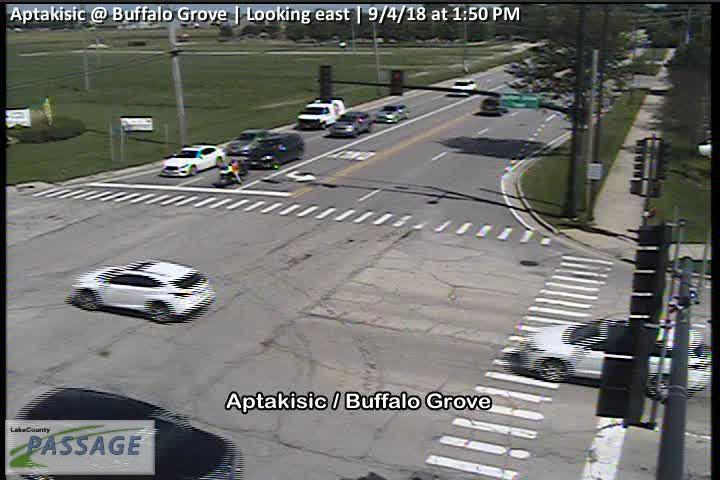Motorbike: (218, 156, 248, 187)
SUV: (7, 387, 243, 480), (519, 313, 712, 400), (70, 259, 215, 324), (246, 132, 306, 170), (481, 94, 510, 117), (447, 79, 477, 97)
Sedan: (160, 143, 225, 178), (224, 128, 275, 157), (328, 110, 373, 139), (373, 103, 409, 124)
Truck: (296, 98, 346, 129)
